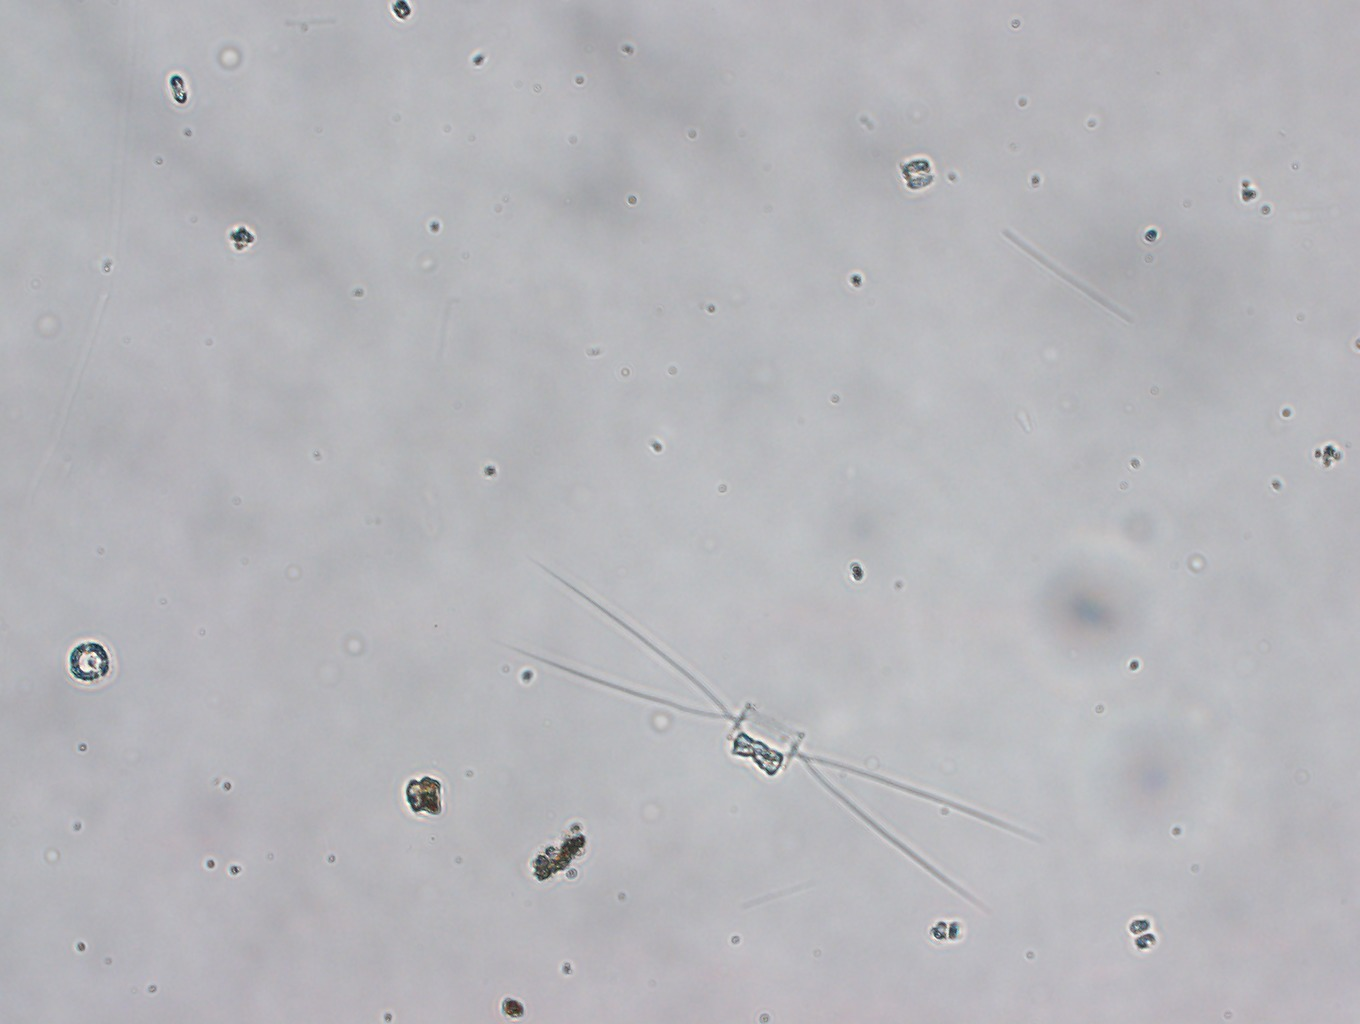chaetoceros: (511, 553, 1042, 912)
